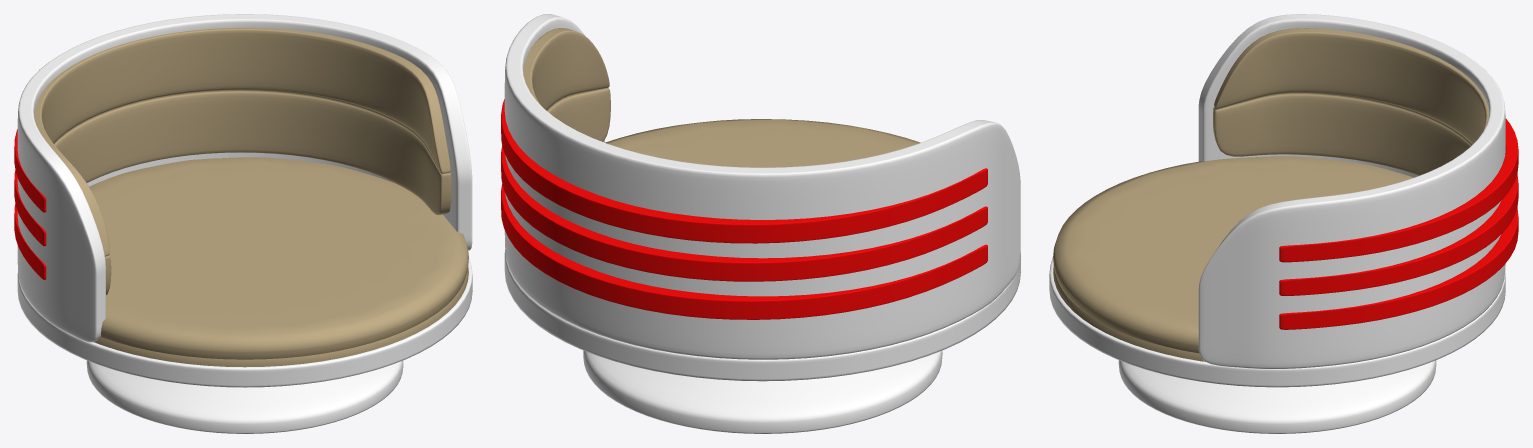
File: Institute_Armchair_Final.FBX
The picture shows the model from 3 angles, left to right: view 1: azimuth 30°, elevation 25°; view 2: azimuth 150°, elevation 25°; view 3: azimuth 270°, elevation 25°; orthographic projection. The views are drawn at different scales.
Visible parts, largest first — view 1: Institute_Armchair_Final; view 2: Institute_Armchair_Final; view 3: Institute_Armchair_Final.
Boxes of the visible parts, x1,y1,x2,y2 form: Institute_Armchair_Final: (14, 14, 472, 433); Institute_Armchair_Final: (501, 14, 1020, 433); Institute_Armchair_Final: (1049, 14, 1518, 433).
Size of the model in its own units: 171 by 106 by 173.
